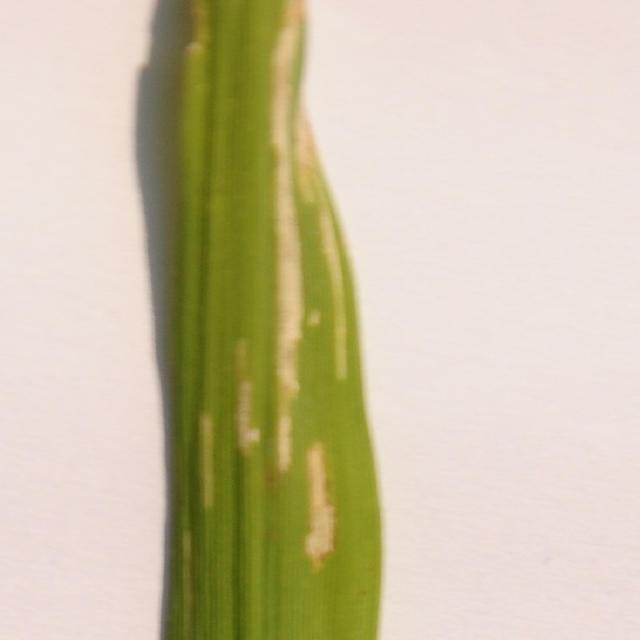Bacterial leaf blight: (266, 1, 298, 473), (300, 435, 342, 586), (318, 219, 354, 384), (231, 336, 262, 469), (194, 414, 221, 516), (180, 0, 212, 85)
